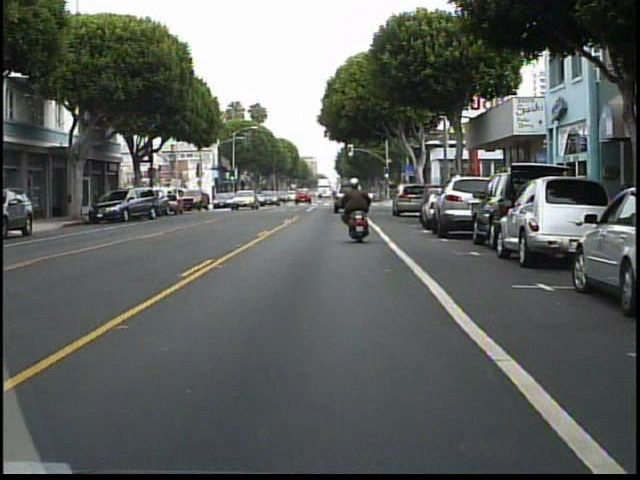person: (336, 171, 374, 240)
